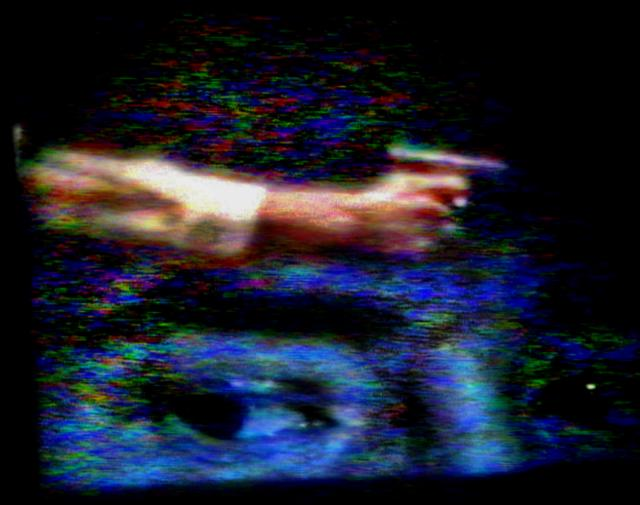pistol: (379, 134, 509, 222)
